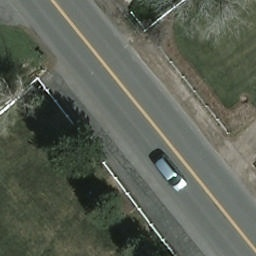car: (154, 154, 190, 193)
